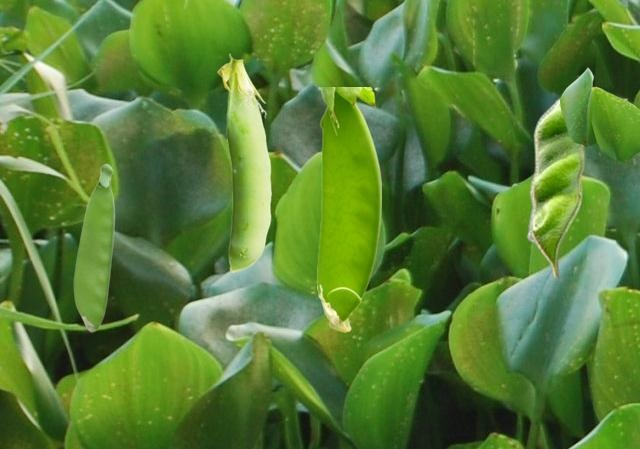pea: (526, 89, 627, 280), (317, 87, 380, 331), (217, 53, 270, 271), (73, 163, 114, 331)
